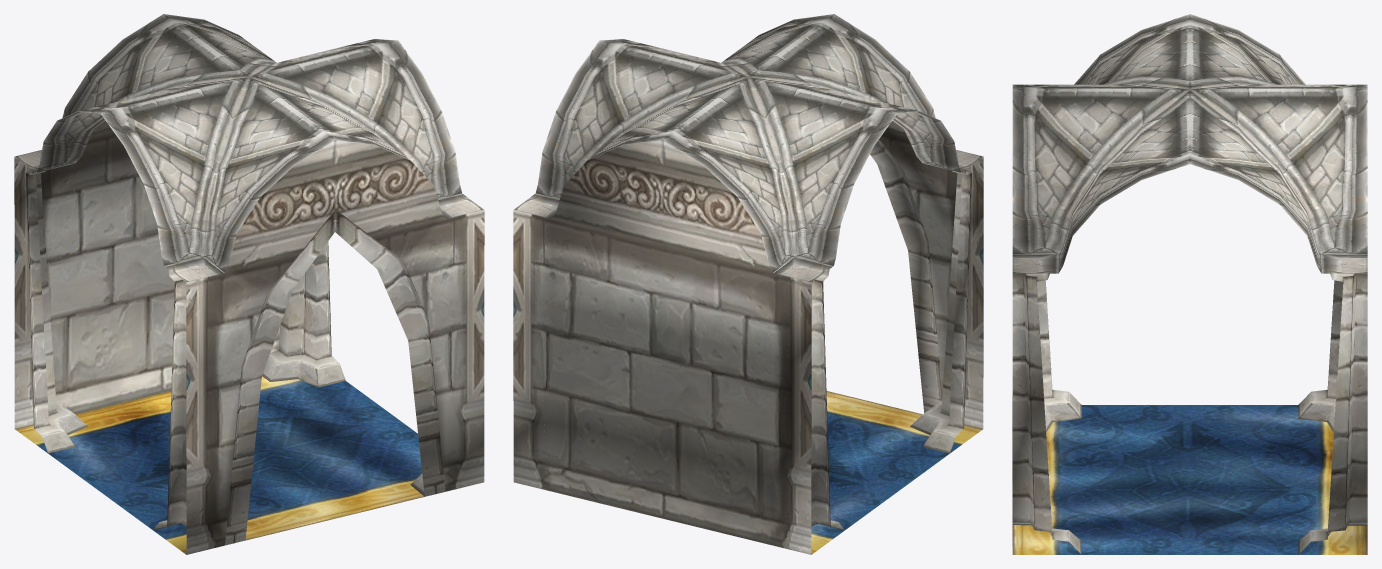
Rendered from stormwind_120.fbx.
The picture shows the model from 3 angles, left to right: view 1: azimuth 30°, elevation 25°; view 2: azimuth 150°, elevation 25°; view 3: azimuth 270°, elevation 25°; orthographic projection. The views are drawn at different scales.
Visible parts, largest first — view 1: stormwind_120_62, stormwind_120_111, stormwind_120_68, stormwind_120_60, stormwind_120_61; view 2: stormwind_120_62, stormwind_120_111, stormwind_120_60, stormwind_120_68, stormwind_120_61; view 3: stormwind_120_111, stormwind_120_68, stormwind_120_60, stormwind_120_61.
Part boxes in pixels (x1,y1,x2,y2): stormwind_120_62: (14, 121, 484, 554); stormwind_120_111: (15, 14, 483, 282); stormwind_120_68: (15, 376, 424, 554); stormwind_120_60: (26, 173, 445, 545); stormwind_120_61: (27, 168, 465, 530); stormwind_120_62: (513, 121, 983, 554); stormwind_120_111: (514, 14, 983, 282); stormwind_120_60: (811, 139, 971, 525); stormwind_120_68: (811, 391, 982, 554); stormwind_120_61: (532, 168, 970, 530); stormwind_120_111: (1012, 14, 1367, 273); stormwind_120_68: (1012, 405, 1367, 554); stormwind_120_60: (1012, 273, 1367, 538); stormwind_120_61: (1012, 257, 1367, 554).
Size of the model in its own units: 9.42 by 11.44 by 9.42.
